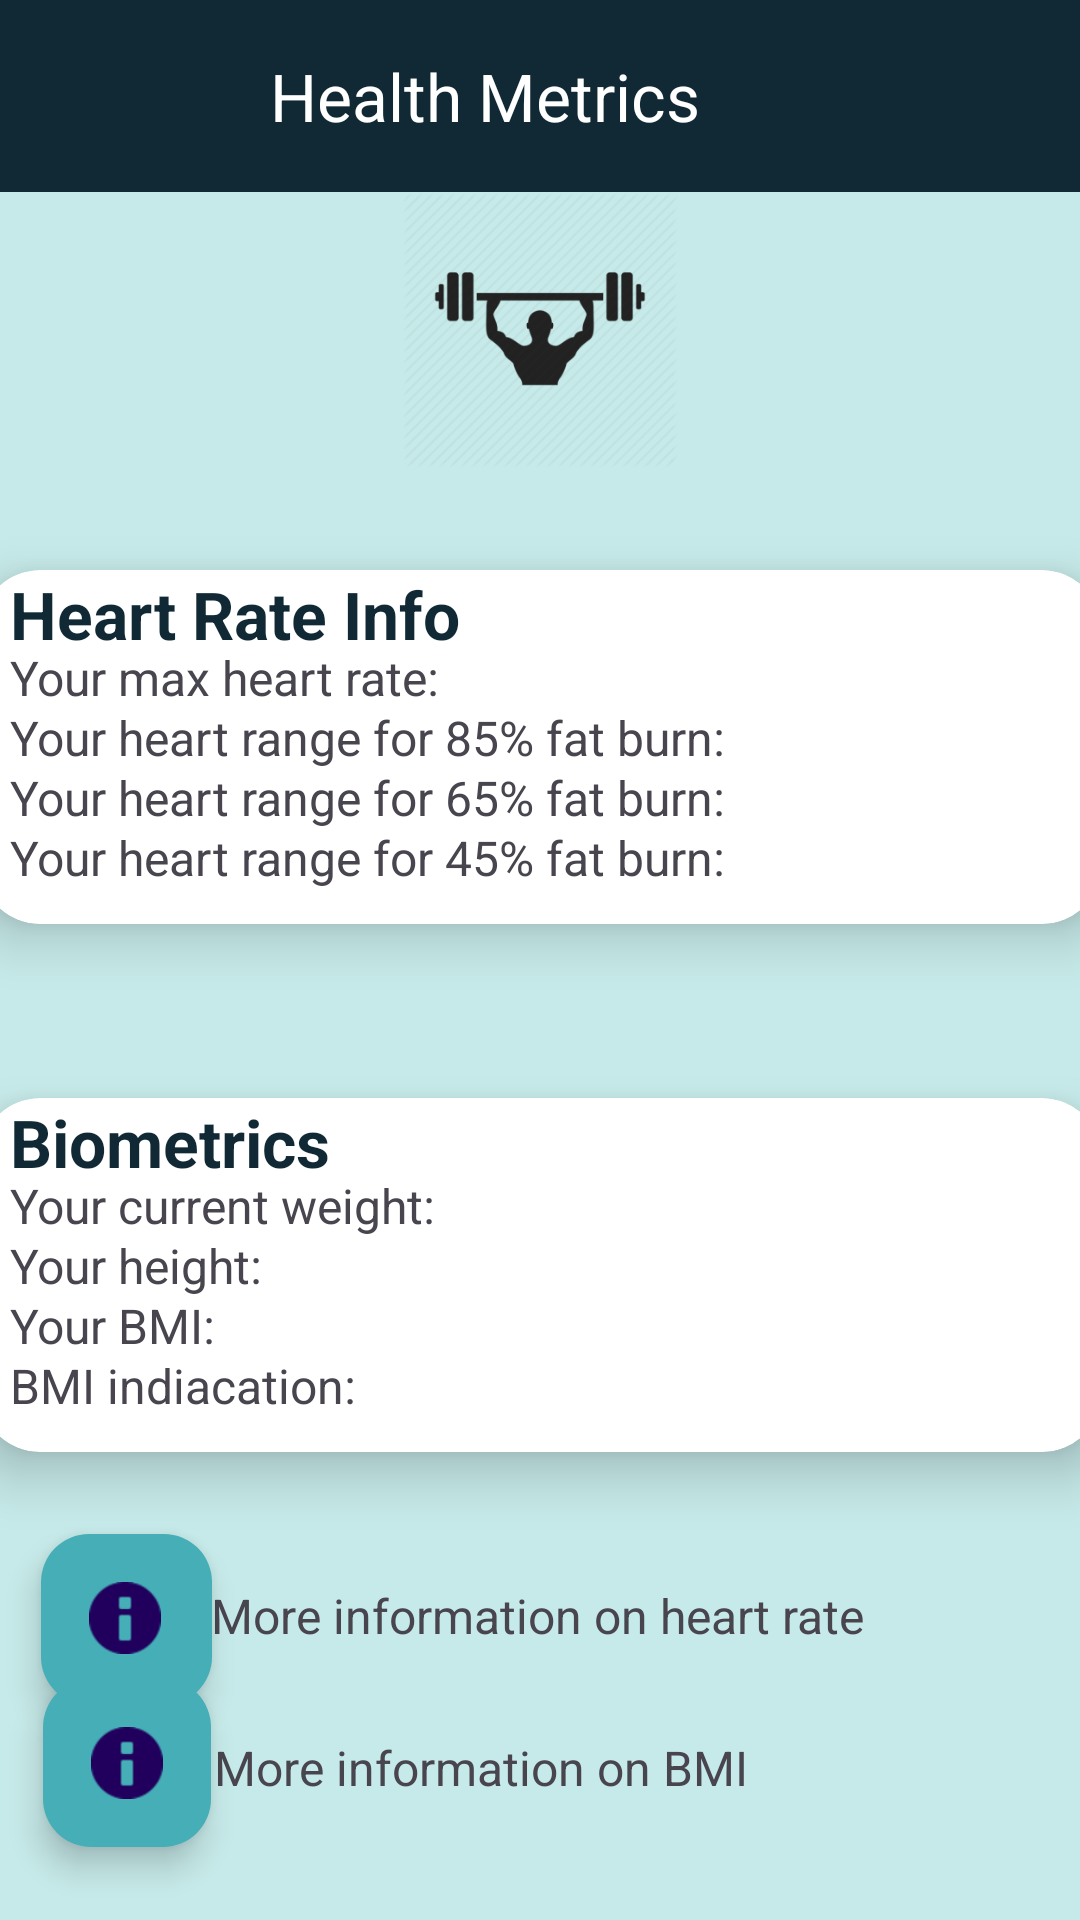

Icon click points for this 1080w x 1920h phone screenshot, format (x,y):
fitness: (539,329)
